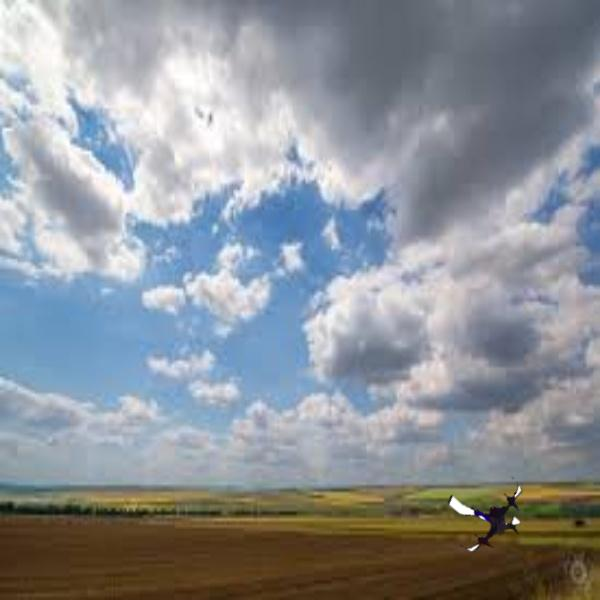drone: (443, 466, 534, 557)
